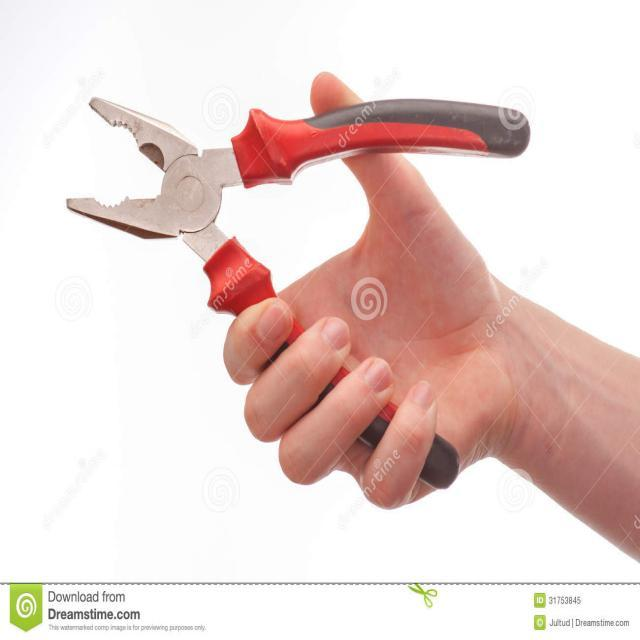pliers: (58, 88, 536, 496)
